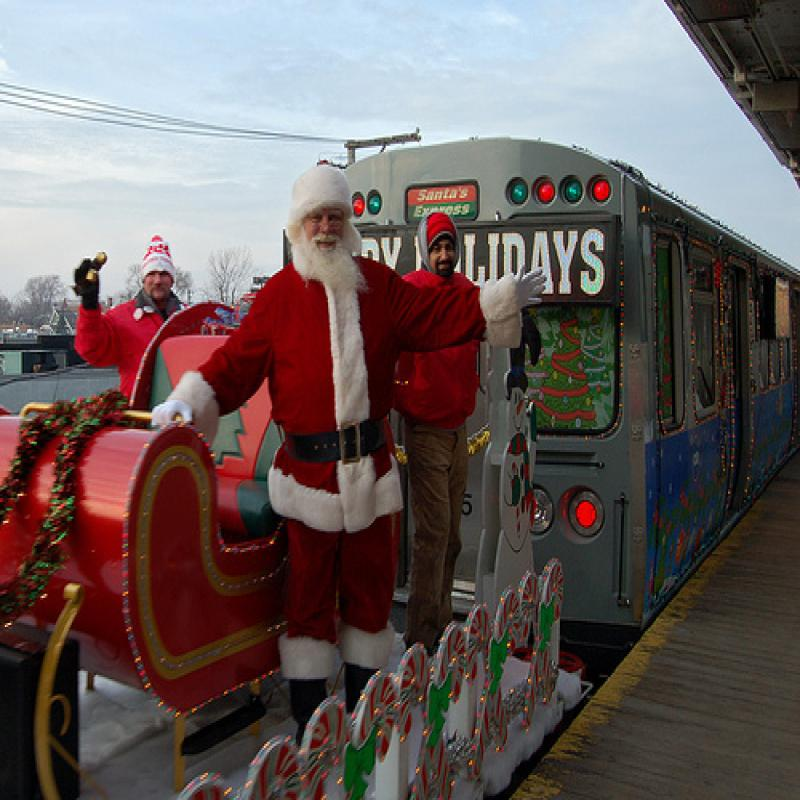train: (295, 132, 798, 793)
